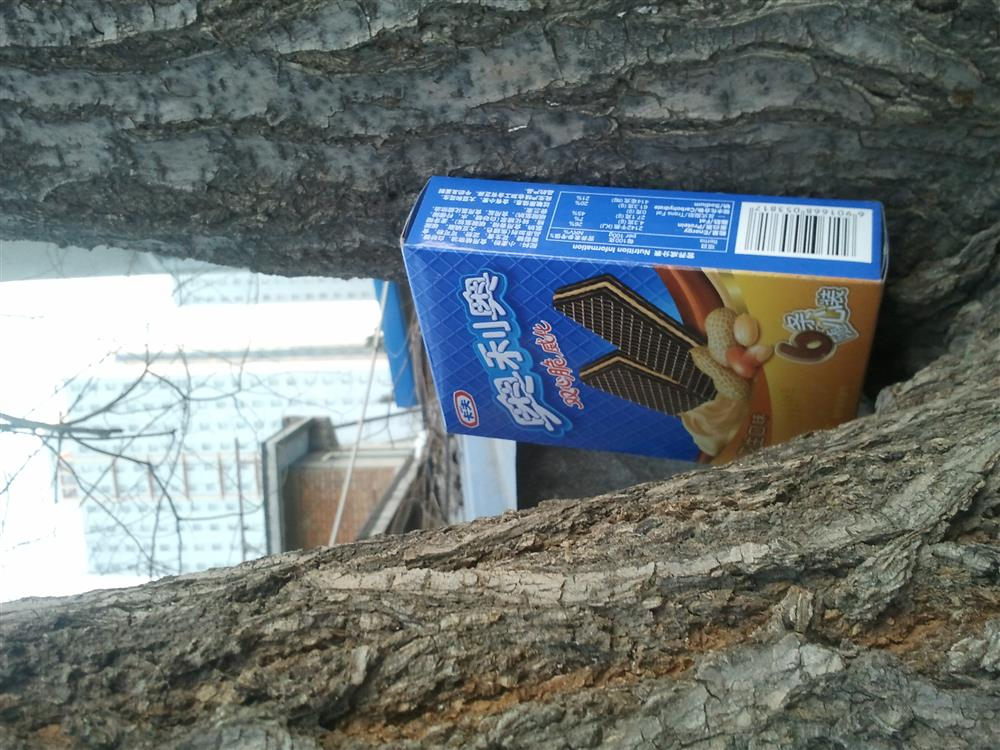Oreo_cookies: (398, 177, 891, 490)
